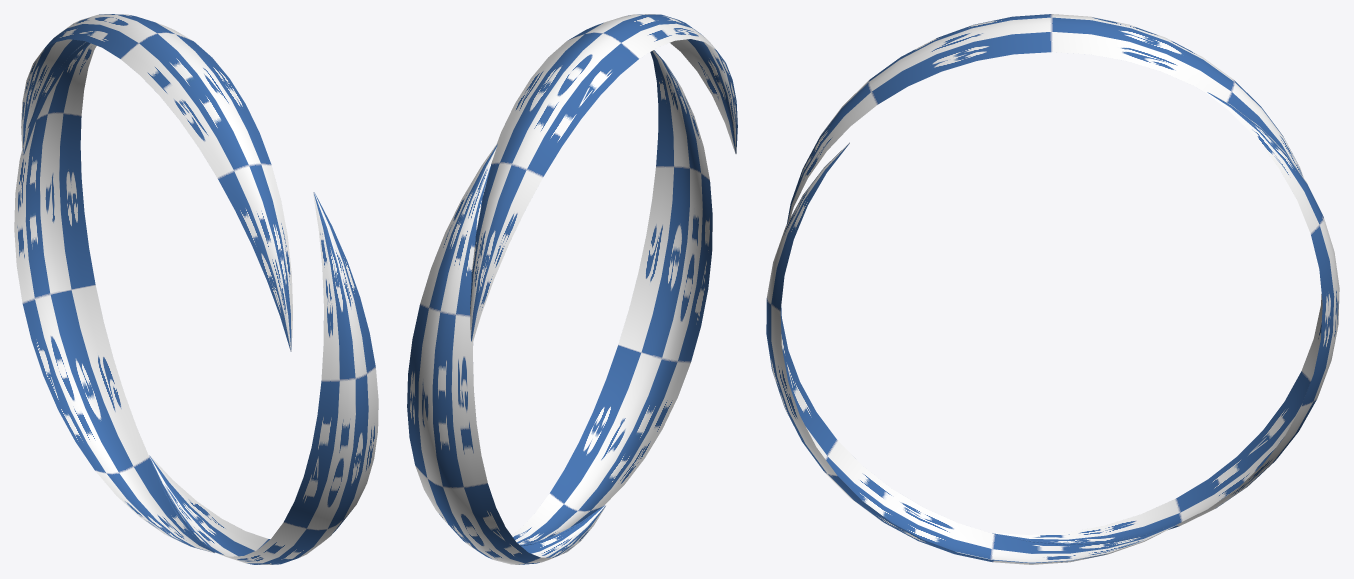
File: Akaza_Ring4.fbx
3 renders of one model, left to right at view 1: azimuth 30°, elevation 25°; view 2: azimuth 150°, elevation 25°; view 3: azimuth 270°, elevation 25°, orthographic.
Visible parts, largest first — view 1: SM_e_Plc_P1012_Ring004; view 2: SM_e_Plc_P1012_Ring004; view 3: SM_e_Plc_P1012_Ring004.
Boxes of the visible parts, box(x1,y1,x2,y2) form: SM_e_Plc_P1012_Ring004: box(14, 14, 378, 564); SM_e_Plc_P1012_Ring004: box(407, 14, 737, 564); SM_e_Plc_P1012_Ring004: box(766, 14, 1339, 564).
Size of the model in its own units: 27.31 by 105 by 106.
